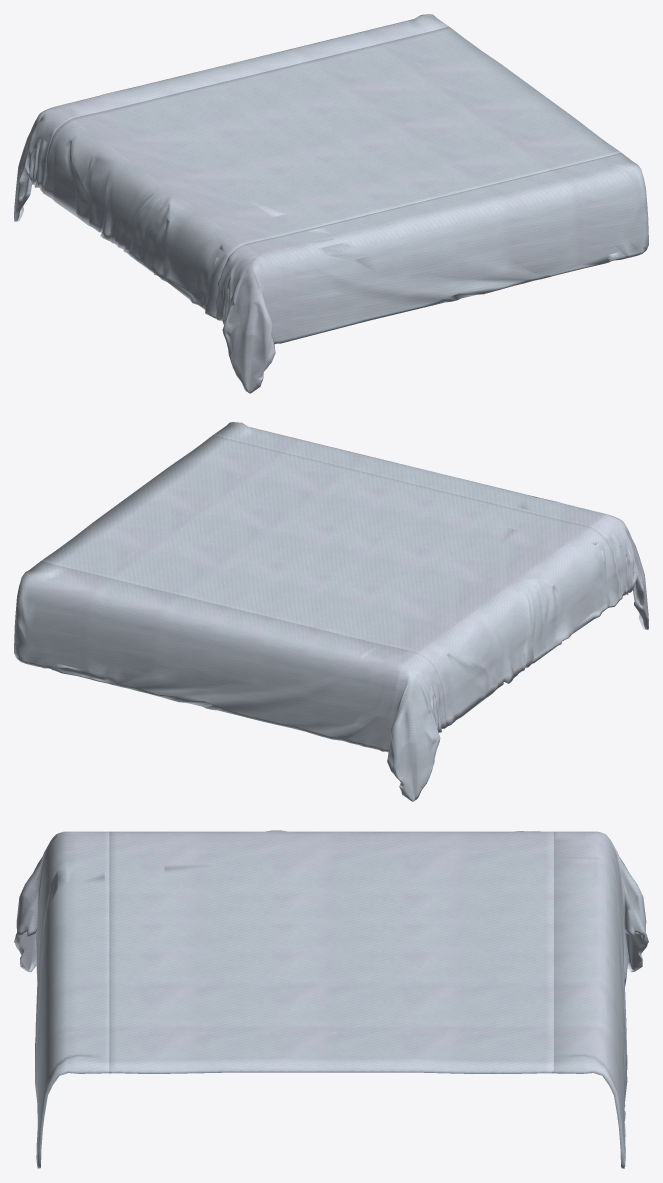
3 views of the same model, one above another, from view 1: azimuth 30°, elevation 25°; view 2: azimuth 150°, elevation 25°; view 3: azimuth 270°, elevation 25° (orthographic). The views are drawn at different scales.
Parts seen in each view (by area): view 1: gy001; view 2: gy001; view 3: gy001.
Boxes of the visible parts, x1,y1,x2,y2 form: gy001: (14,14,648,393); gy001: (14,422,648,801); gy001: (14,830,648,1168).
Bounding box in the file's own units: 216 × 60.86 × 222.
